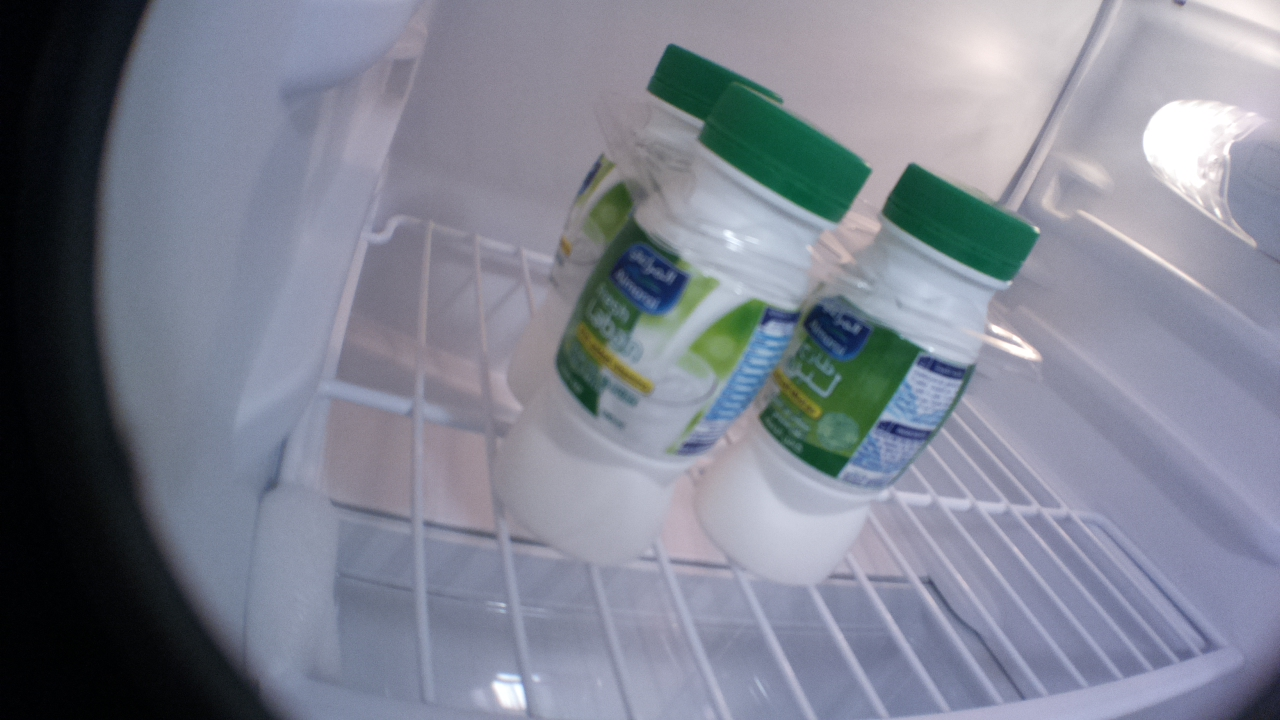laban: (483, 82, 872, 574), (693, 162, 1040, 589), (509, 41, 784, 413)
